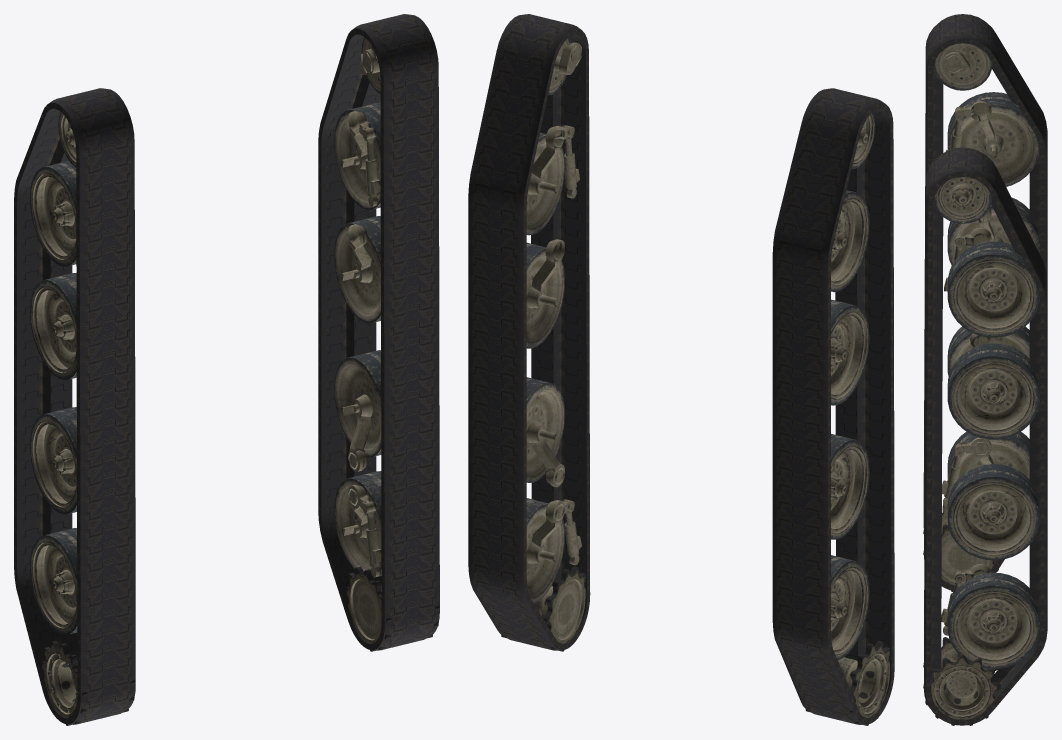
File: Chassis.glb
3 renders of one model, left to right at view 1: azimuth 30°, elevation 25°; view 2: azimuth 150°, elevation 25°; view 3: azimuth 270°, elevation 25°, orthographic. The views are drawn at different scales.
Parts seen in each view (by area): view 1: set_0_group_0, set_1_group_0, set_3_group_0, set_2_group_0; view 2: set_0_group_0, set_1_group_0, set_3_group_0, set_2_group_0; view 3: set_3_group_0, set_1_group_0, set_2_group_0, set_0_group_0.
Part boxes in pixels (x1=…): set_0_group_0: x1=14, y1=88, x2=135, y2=724; set_1_group_0: x1=318, y1=14, x2=439, y2=650; set_3_group_0: x1=334, y1=37, x2=439, y2=651; set_2_group_0: x1=30, y1=112, x2=135, y2=725; set_0_group_0: x1=772, y1=88, x2=894, y2=724; set_1_group_0: x1=468, y1=14, x2=590, y2=650; set_3_group_0: x1=501, y1=37, x2=585, y2=651; set_2_group_0: x1=800, y1=112, x2=889, y2=725; set_3_group_0: x1=923, y1=177, x2=1039, y2=725; set_1_group_0: x1=924, y1=147, x2=1047, y2=725; set_2_group_0: x1=923, y1=43, x2=1039, y2=591; set_0_group_0: x1=923, y1=14, x2=1047, y2=590.
Size of the model in its own units: 3.15 by 5.2 by 1.05.
Materials: 4 (4 with a texture image).
